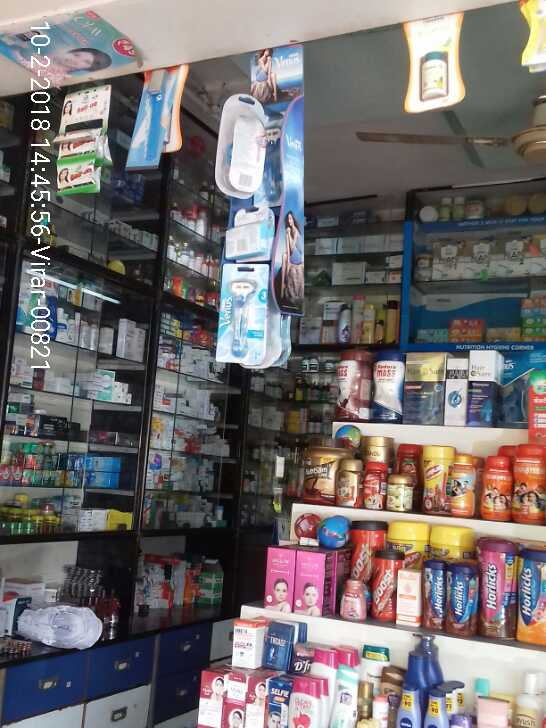venus: (218, 262, 266, 359)
